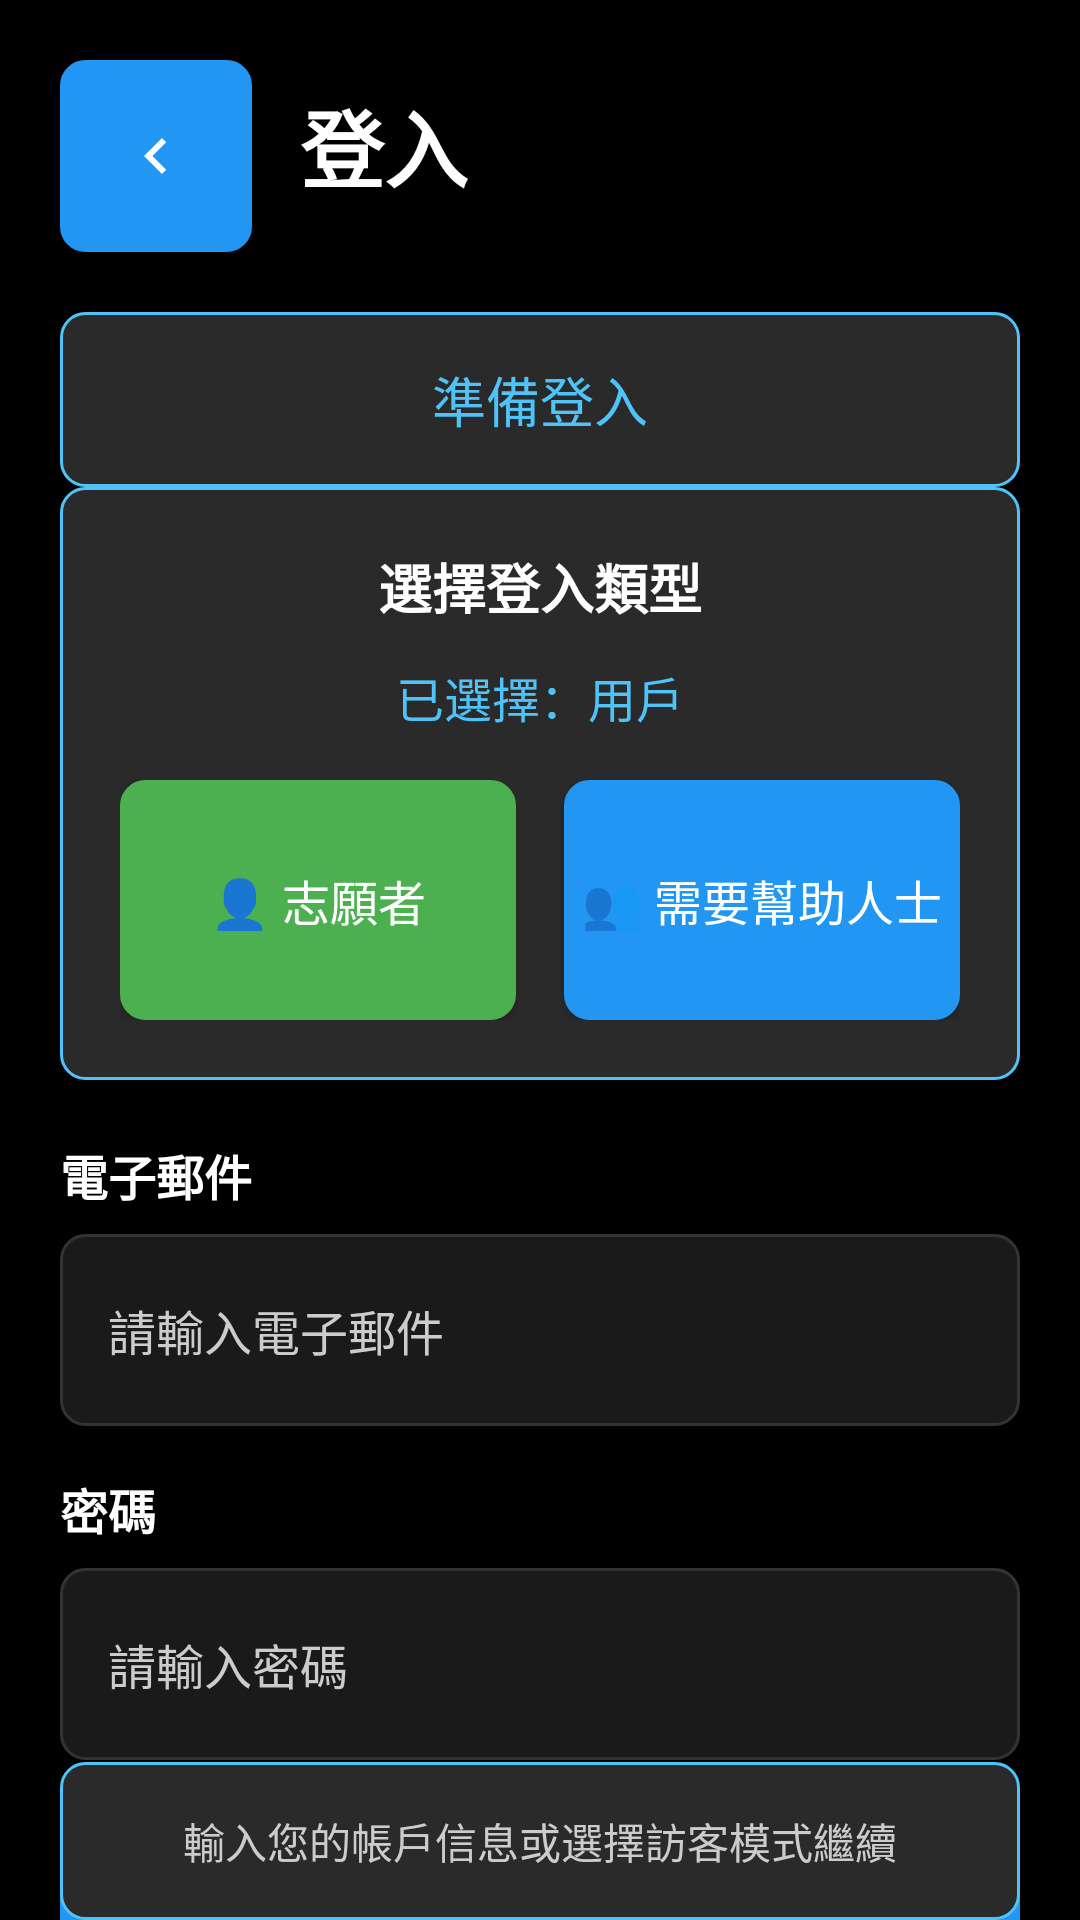

Named icons in this screenshot (1080px×1920px) and their centers, [x,y]:
Back Button: [156,156]
